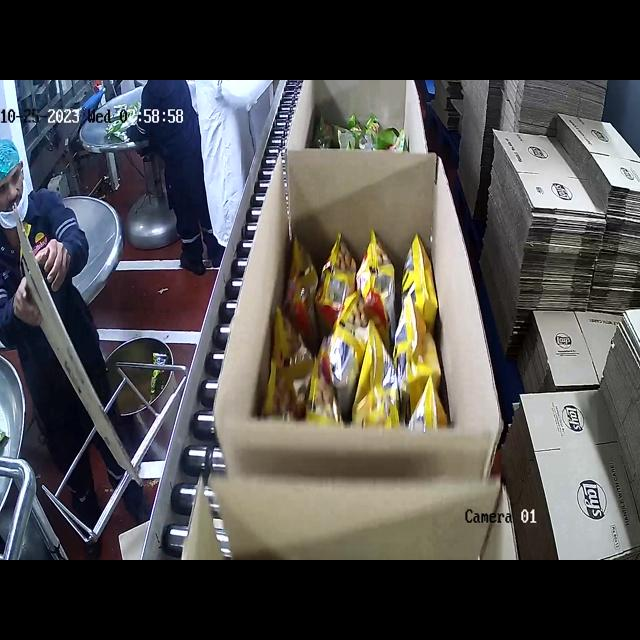salted: (288, 228, 431, 426)
yogurt: (311, 107, 407, 149)
